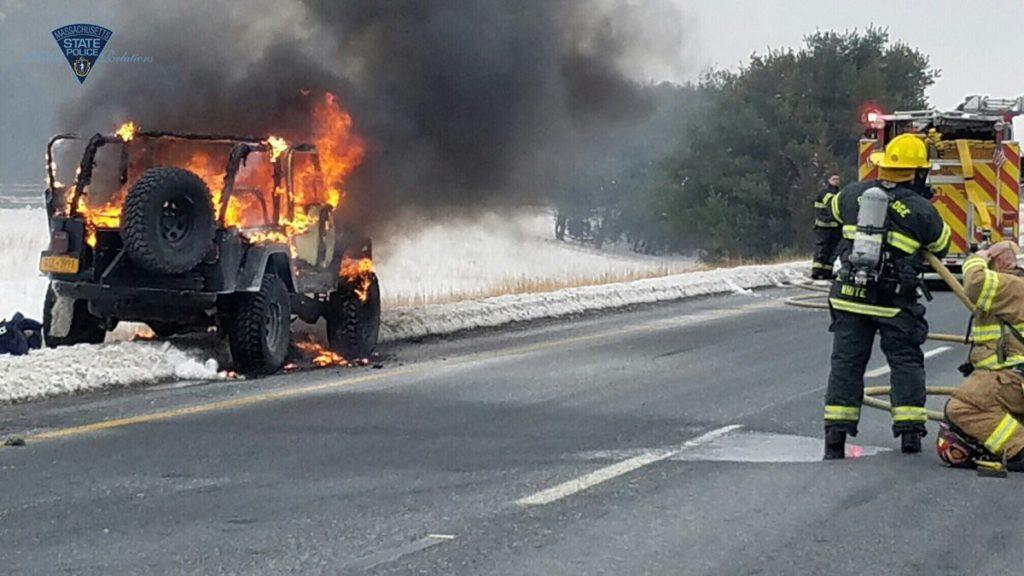fire: (189, 88, 364, 244), (58, 191, 121, 248), (292, 337, 353, 368), (340, 254, 378, 298), (44, 144, 61, 190), (115, 120, 137, 144)
smoke: (369, 0, 713, 238), (74, 0, 366, 130)
